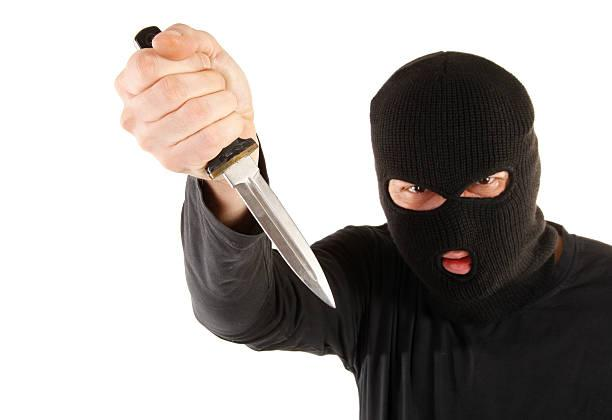Knife: (114, 23, 612, 420), (114, 22, 252, 173), (216, 139, 336, 309)
